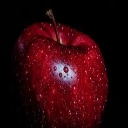apple: (8, 8, 109, 128)
